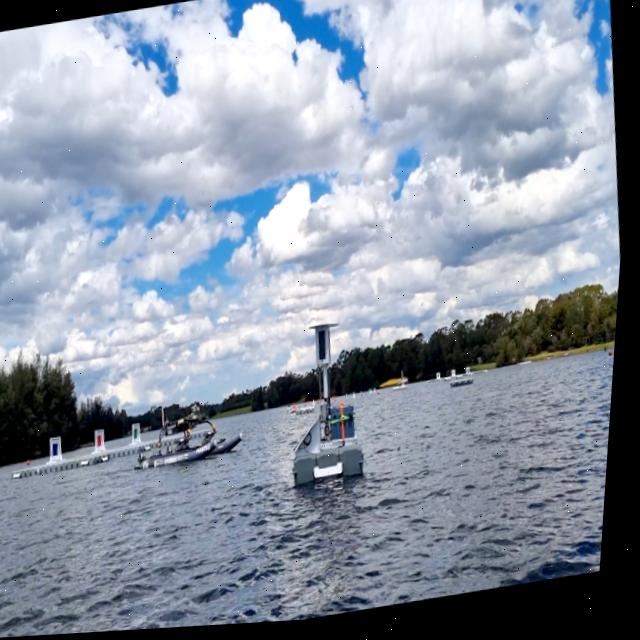led: (319, 332, 335, 367)
